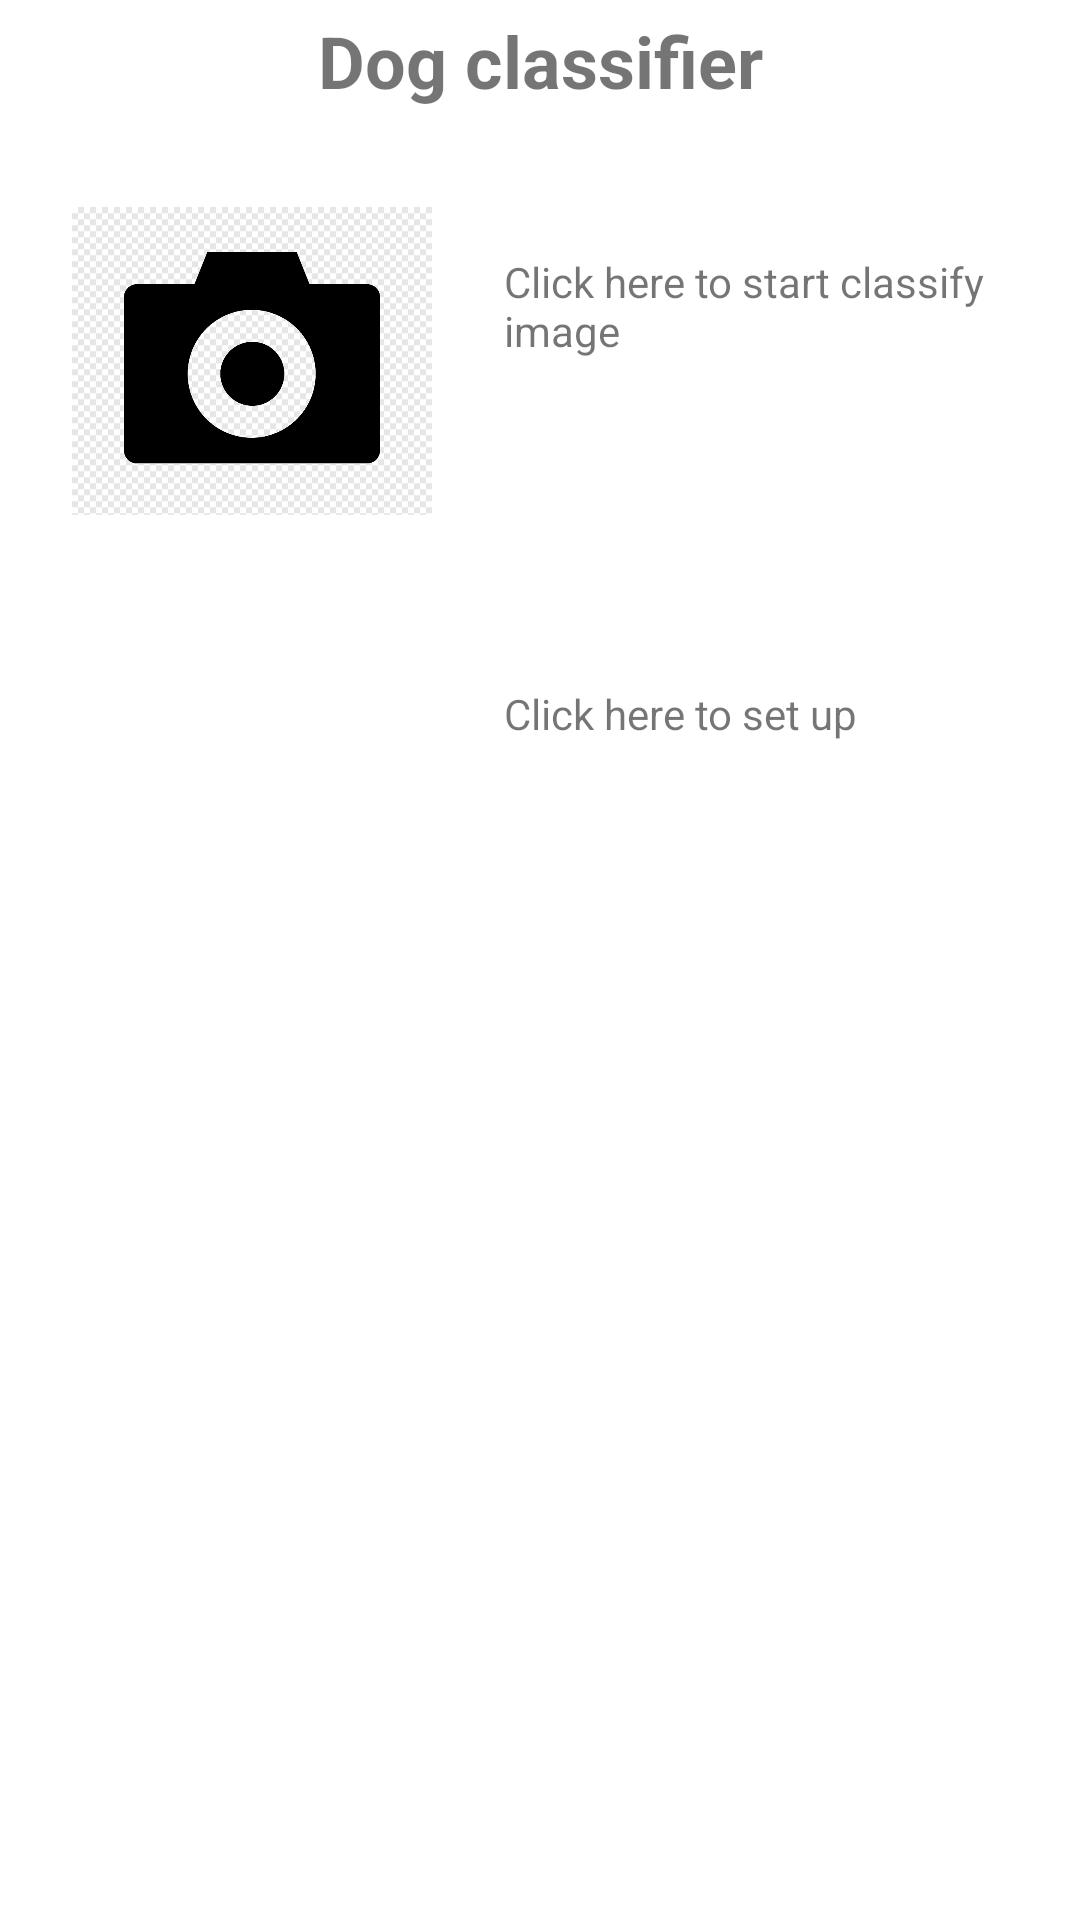

Icon bounding boxes for this 1080*1920 phone screenshot, format (x1, y1, x2, y2):
aparat: (72, 207, 432, 515)
